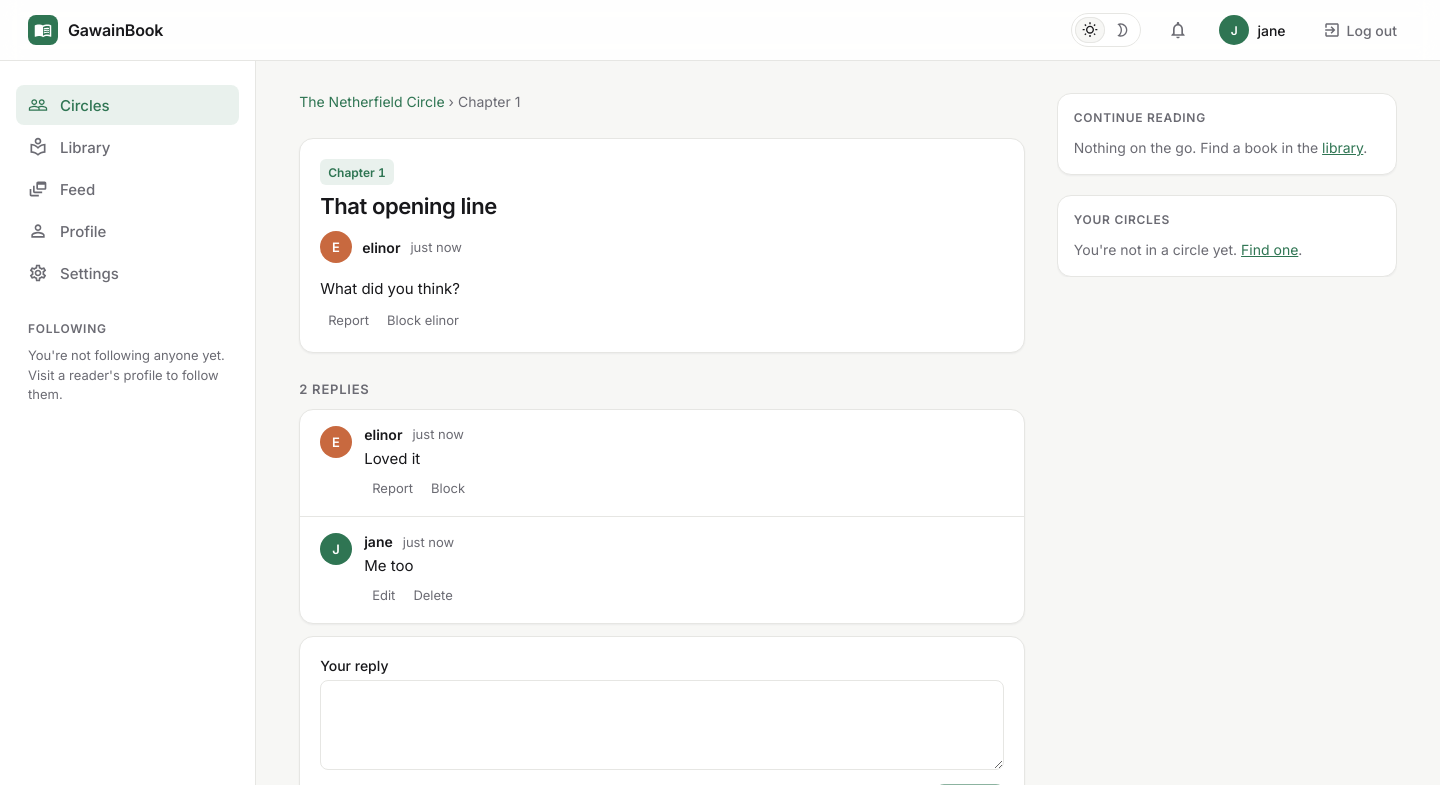
replying appends your reply and clears the box
Type "  New thought  " into the text box labelled "Your reply" at (662, 725), box [320, 680, 1004, 770]
(page scrolled)
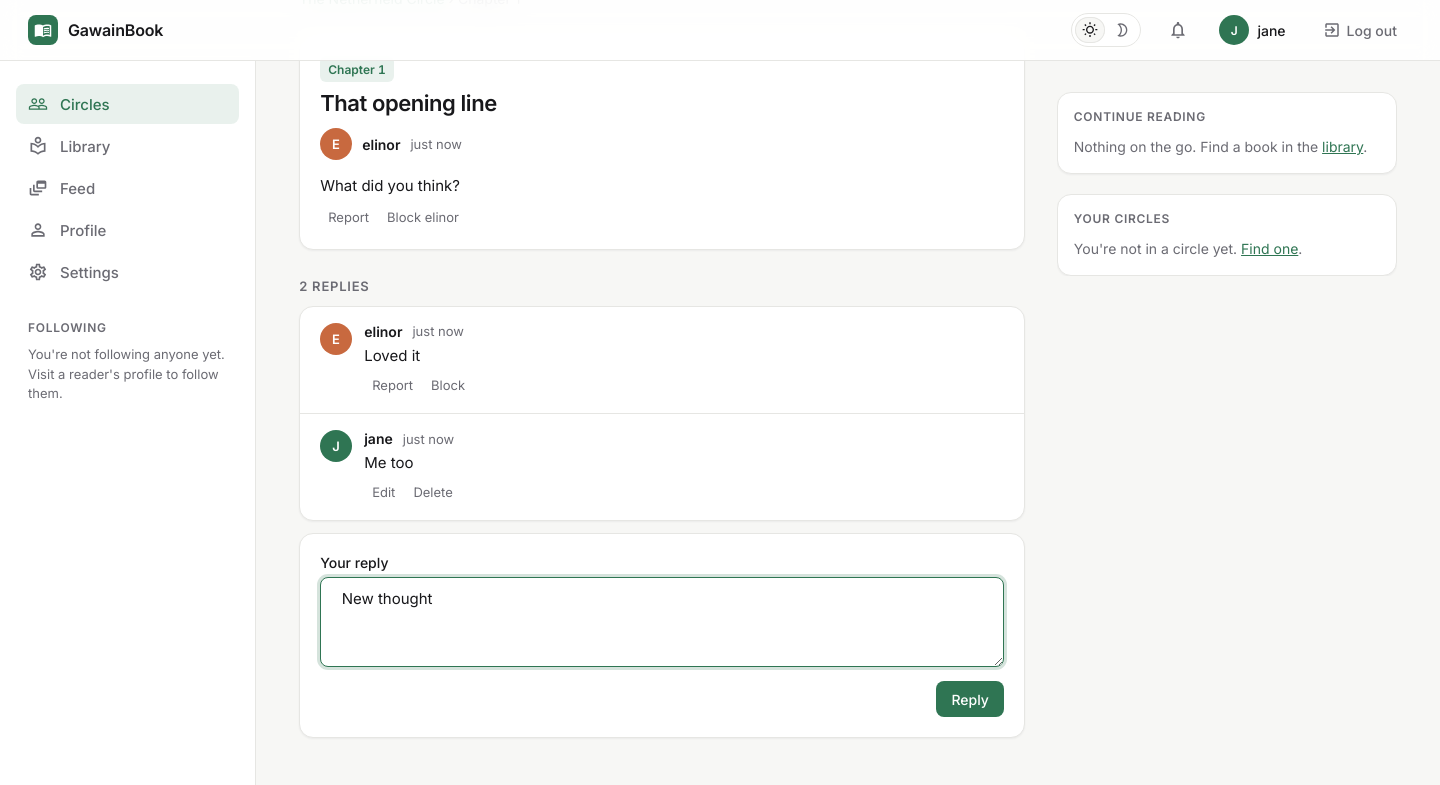
Click the button "Reply" at (970, 699), box [936, 681, 1004, 717]
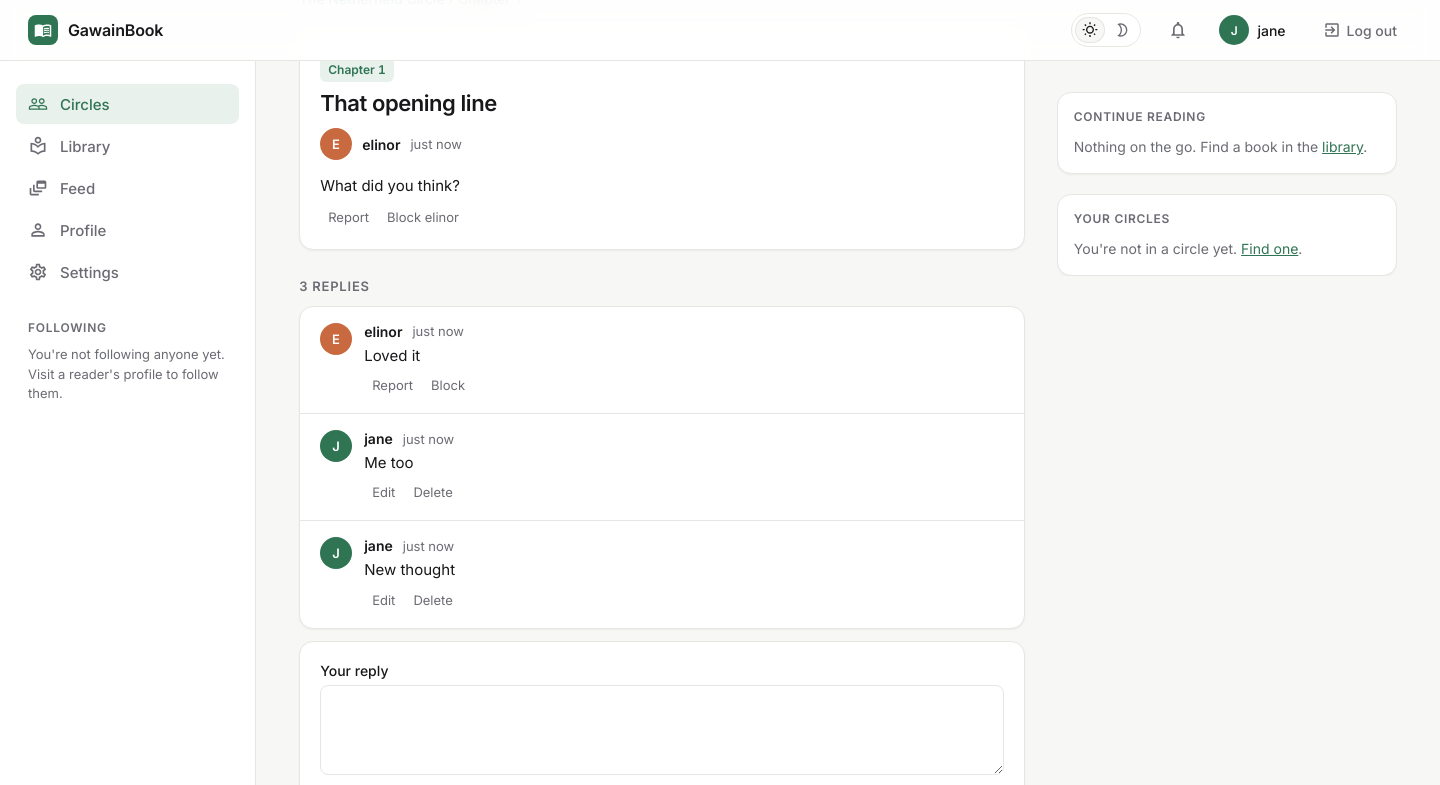
Result: the text box labelled "Your reply" is empty at [320, 684, 1004, 774]
Result: the heading "3 replies" is shown at [299, 278, 370, 294]
